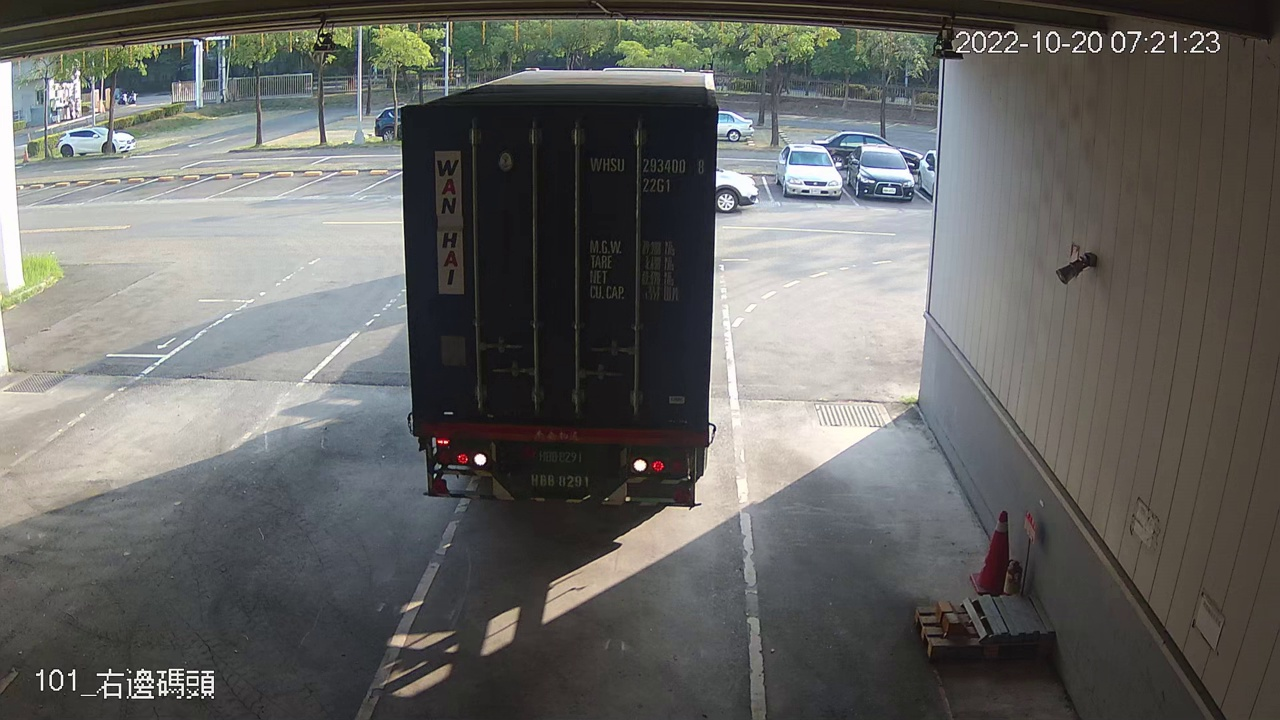container: (581, 146, 709, 197)
